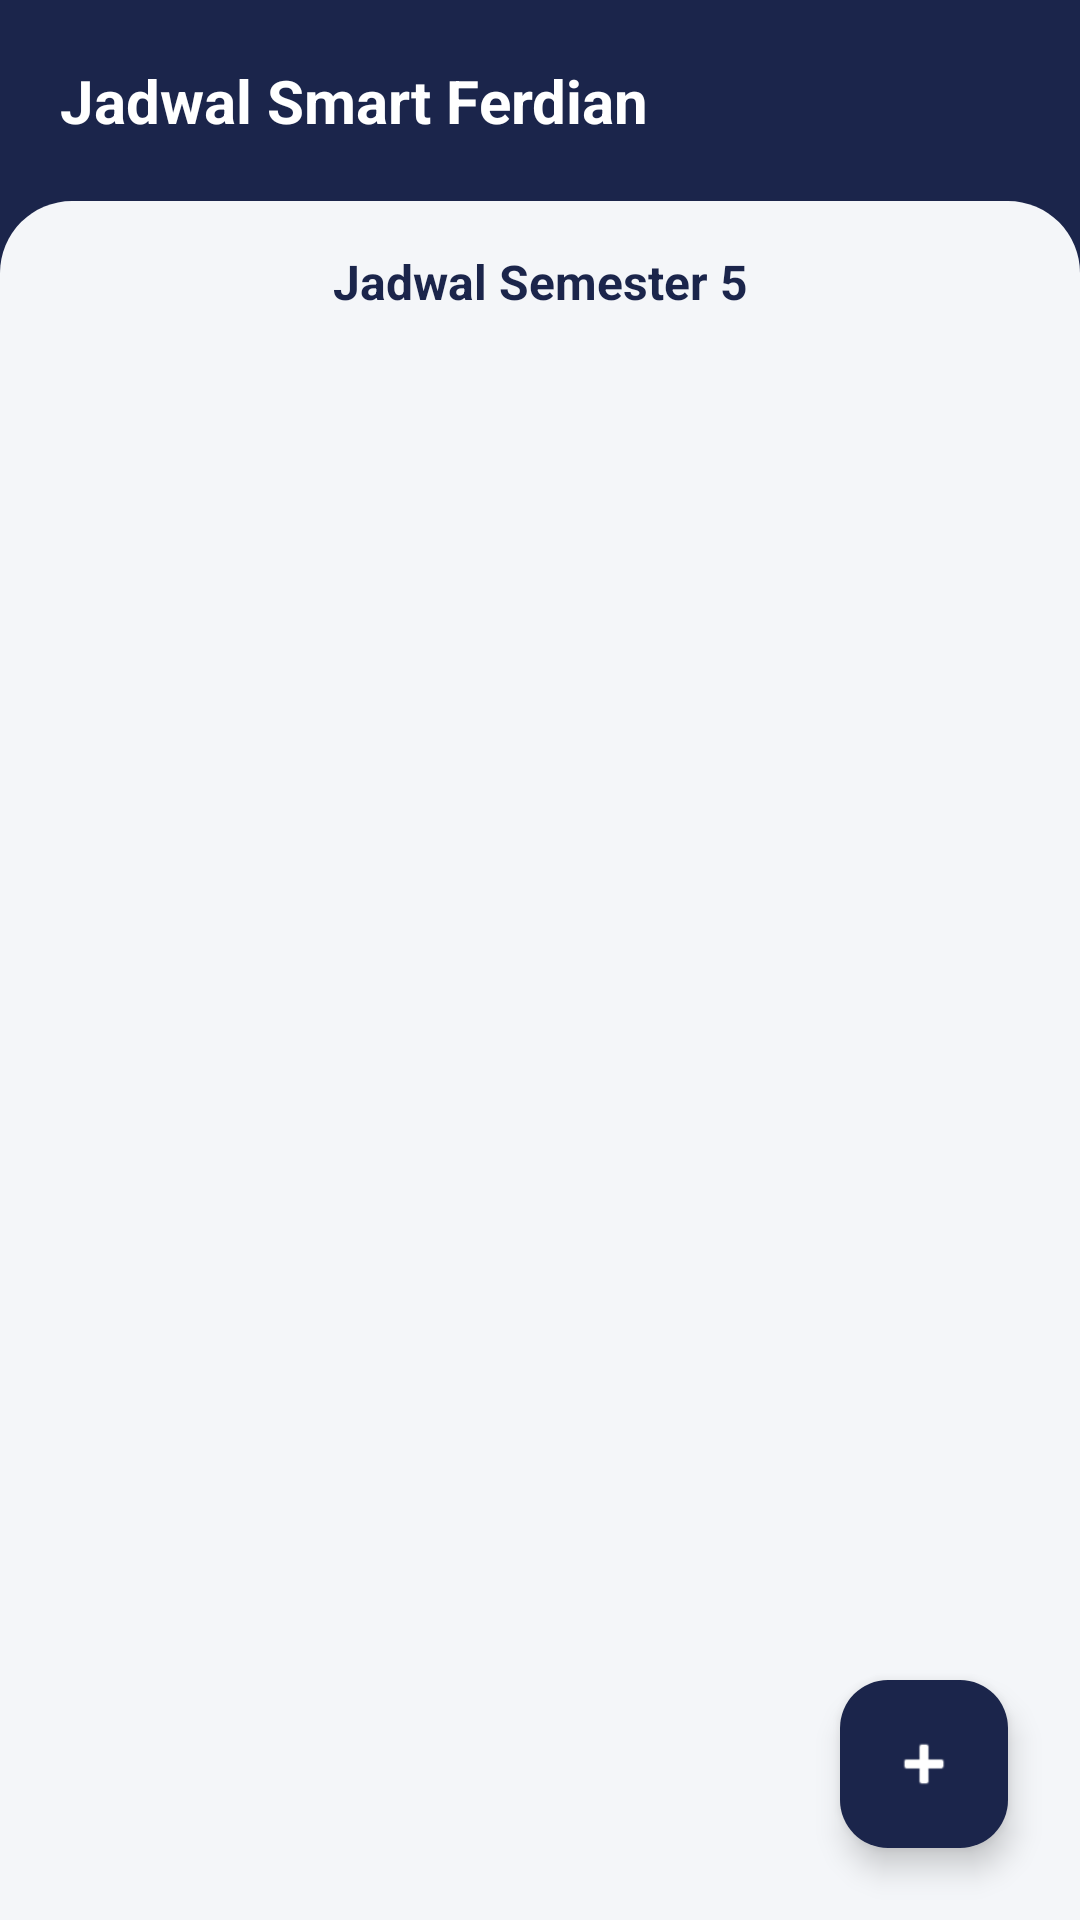

Locate icon controls on the screen. Image size 1080x1920, boxes as (x1, y1, x2, y2).
Tambah Jadwal: (840, 1680, 1008, 1848)
